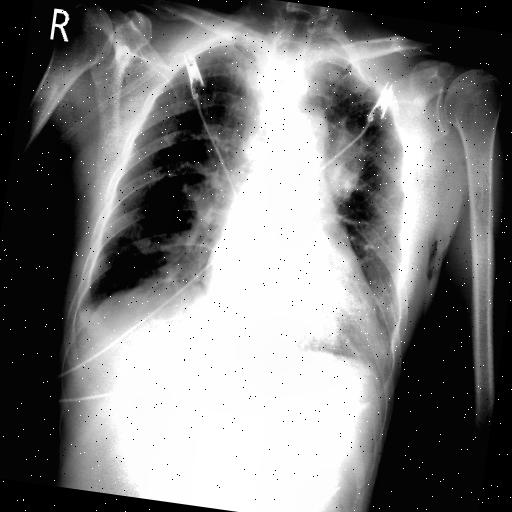0- Aortic enlargement: (266, 97, 333, 197), (274, 101, 333, 183)
10- Pleural effusion: (68, 286, 104, 336)
11- Pleural thickening: (68, 286, 104, 336)
3- Cardiomegaly: (195, 240, 395, 366), (191, 250, 386, 376), (194, 252, 396, 352)
4- Consolidation: (326, 134, 366, 200)
7- Lung Opacity: (321, 122, 412, 234), (318, 117, 368, 202), (327, 120, 376, 200), (365, 274, 400, 334)
8- Nodule-Mass: (318, 117, 368, 202)
9- Other lesion: (423, 235, 441, 281)
